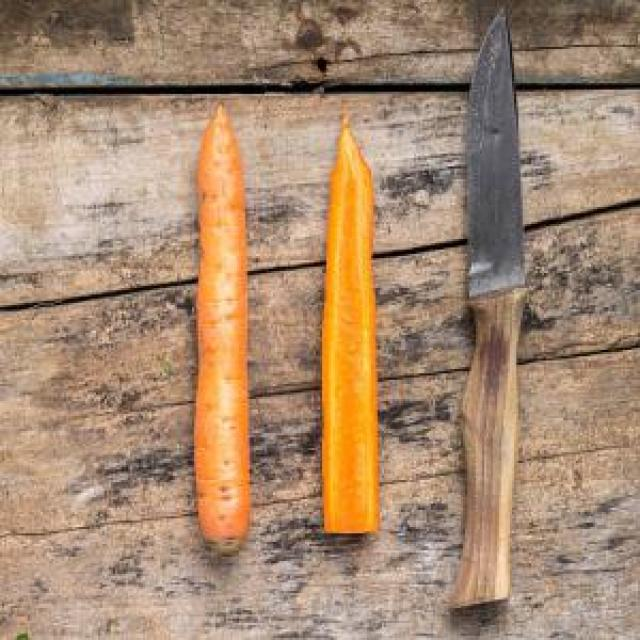knife: (435, 4, 532, 630)
